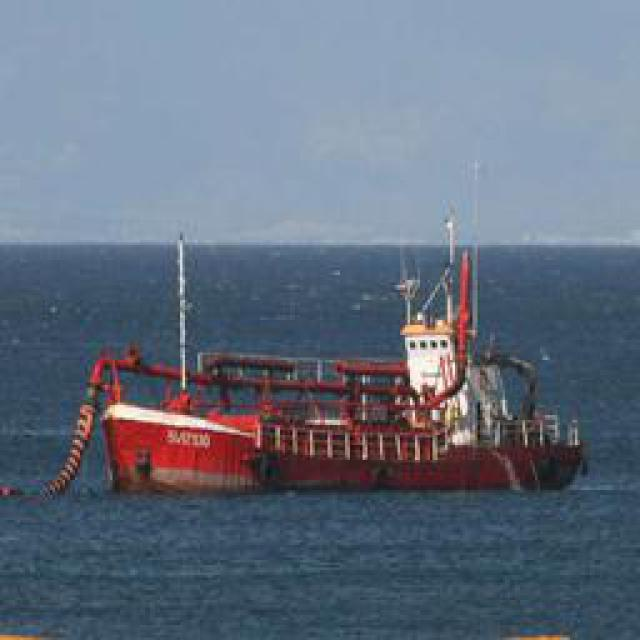Ship: (42, 306, 590, 499)
